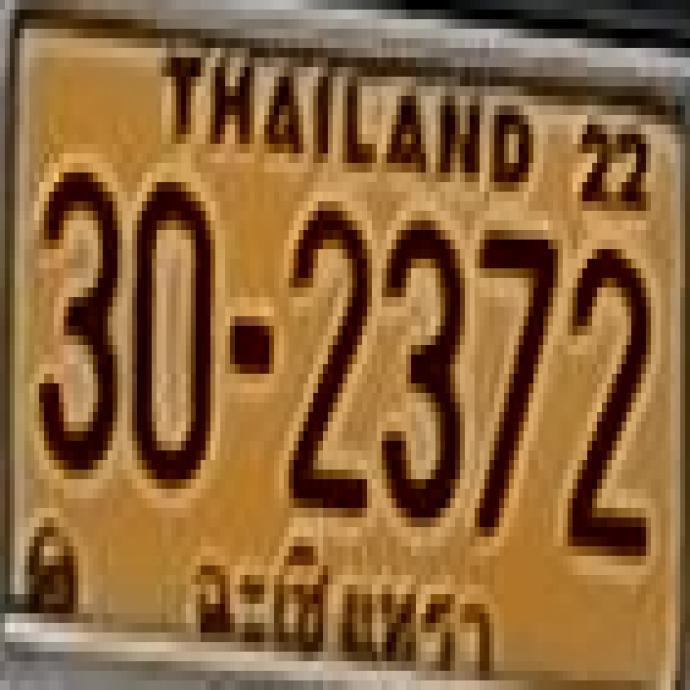0: (129, 174, 209, 479)
2: (564, 239, 645, 547), (286, 196, 364, 506)
3: (377, 211, 458, 516), (35, 162, 115, 466)
7: (473, 220, 552, 527)
CCO: (182, 528, 507, 685)
